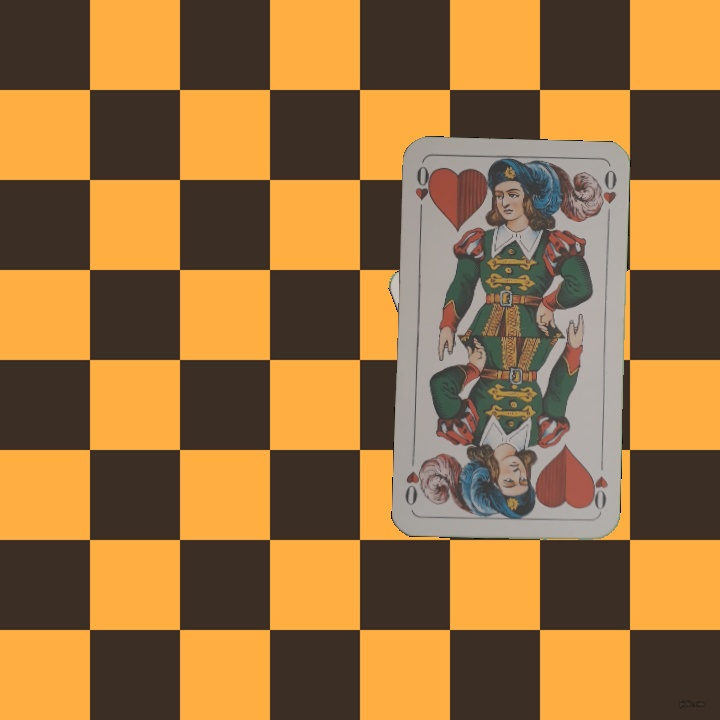HO: (585, 456, 610, 515), (411, 162, 435, 220)
